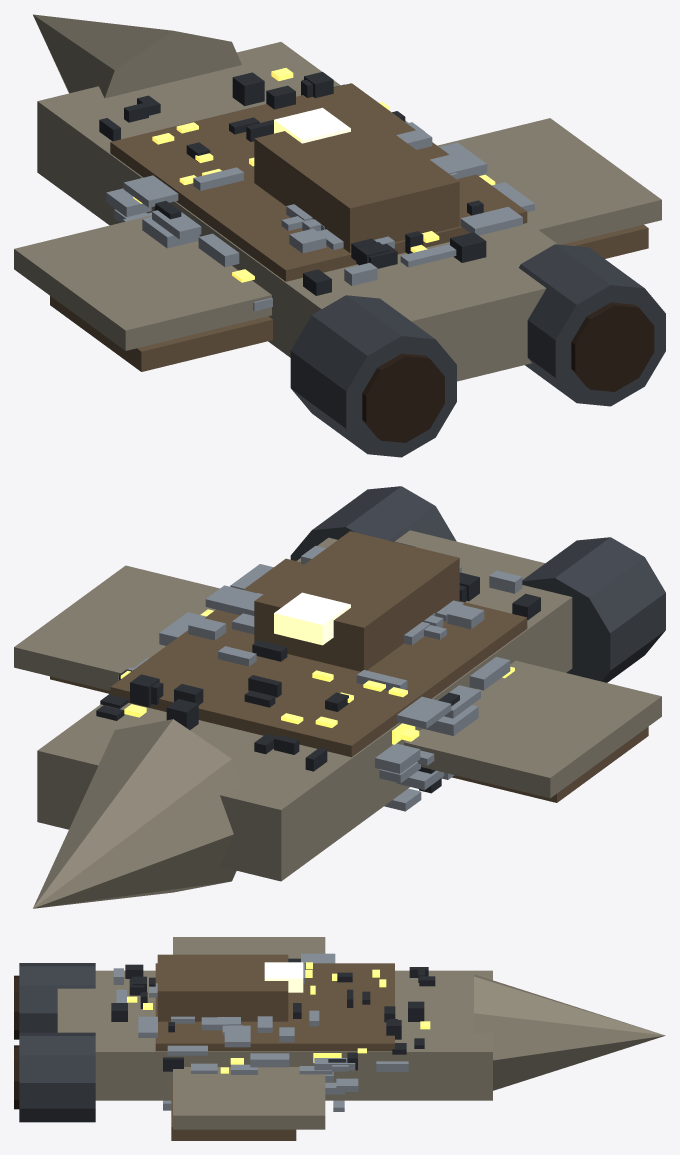
The model's file is plektor_frigate.glb.
3 views of the same model, one above another, from view 1: azimuth 30°, elevation 25°; view 2: azimuth 150°, elevation 25°; view 3: azimuth 270°, elevation 25° (orthographic). The views are drawn at different scales.
Visible parts, largest first — view 1: hull, engines; view 2: hull, engines; view 3: hull, engines.
Boxes of the visible parts, <box> form: hull: <box>14,14,661,381</box>; engines: <box>290,244,665,457</box>; hull: <box>14,530,661,908</box>; engines: <box>290,486,665,682</box>; hull: <box>57,937,665,1140</box>; engines: <box>14,963,95,1122</box>.
Size of the model in its own units: 35.39 by 11.48 by 54.59.
